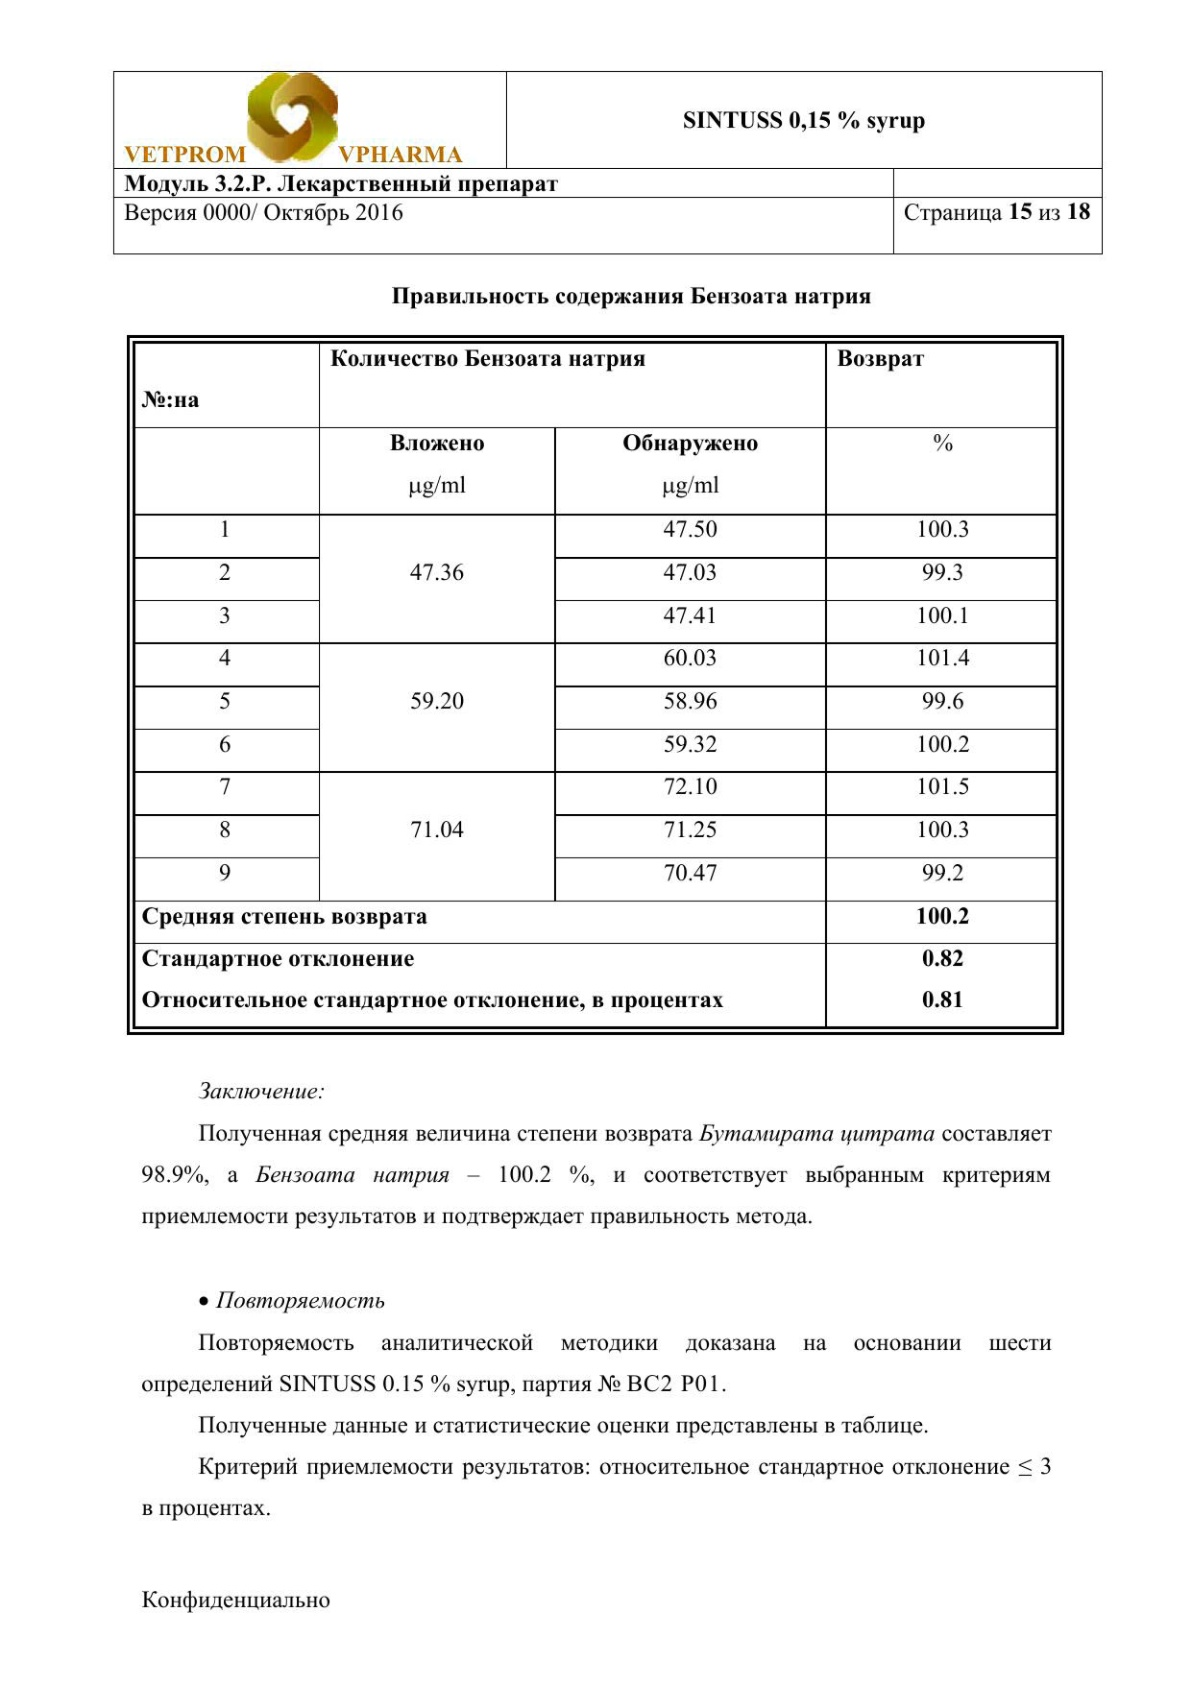merged_cells: (126, 334, 1066, 1035), (112, 70, 1103, 255)
